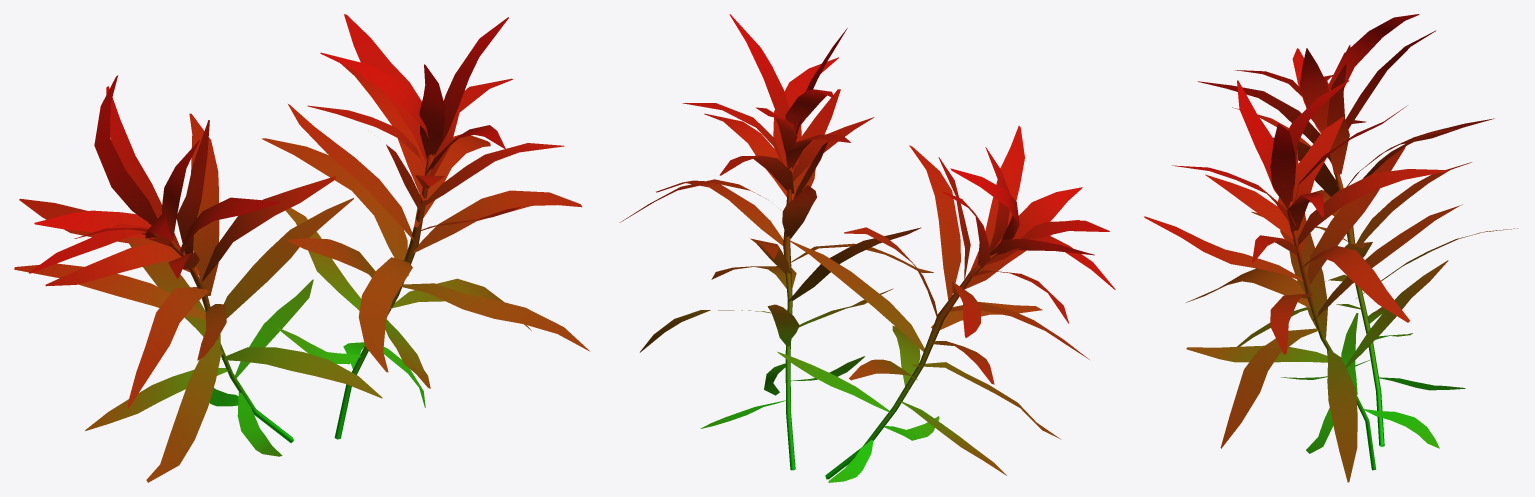
The model's file is Butterfly Weed_LOD2_Var10.fbx.
The picture shows the model from 3 angles, left to right: view 1: azimuth 30°, elevation 25°; view 2: azimuth 150°, elevation 25°; view 3: azimuth 270°, elevation 25°; orthographic projection. The views are drawn at different scales.
Parts seen in each view (by area): view 1: _tp4v_Var10_LOD2; view 2: _tp4v_Var10_LOD2; view 3: _tp4v_Var10_LOD2.
Part boxes in pixels (x1=…): _tp4v_Var10_LOD2: x1=14, y1=14, x2=589, y2=482; _tp4v_Var10_LOD2: x1=619, y1=14, x2=1115, y2=482; _tp4v_Var10_LOD2: x1=1144, y1=14, x2=1517, y2=482.
Bounding box in the file's own units: 50.31 × 39.23 × 33.46.
